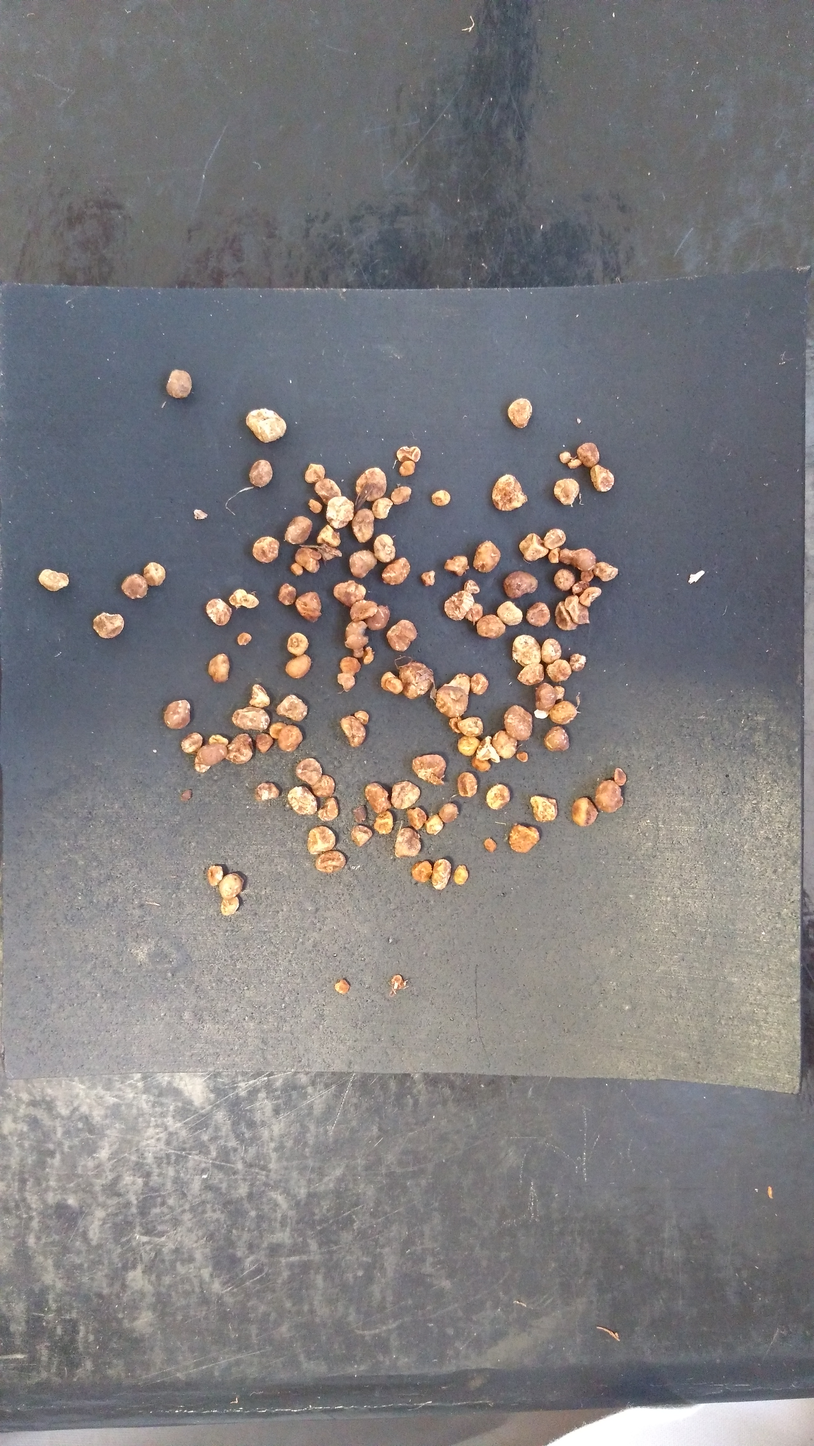nodule: (487, 471, 535, 515), (240, 406, 292, 445), (394, 658, 436, 702), (502, 388, 540, 434), (406, 749, 451, 786), (472, 532, 507, 575), (381, 617, 424, 652), (163, 366, 200, 405), (352, 464, 389, 502), (433, 684, 471, 721), (376, 553, 416, 588), (506, 821, 543, 858), (337, 712, 371, 752), (117, 570, 152, 608), (503, 567, 542, 601), (594, 775, 627, 815), (292, 752, 328, 788), (567, 794, 603, 830), (291, 588, 325, 626), (90, 609, 128, 643), (561, 591, 596, 627), (389, 778, 425, 813), (493, 593, 527, 630), (527, 788, 561, 825), (509, 632, 544, 667), (160, 695, 194, 731), (346, 548, 383, 581), (502, 703, 534, 741), (322, 494, 356, 529), (286, 782, 319, 818), (304, 822, 340, 855), (440, 588, 477, 620), (361, 780, 395, 814), (471, 610, 507, 642), (279, 511, 311, 547), (203, 594, 234, 631), (34, 565, 71, 596), (330, 579, 372, 606), (275, 691, 310, 723), (393, 825, 425, 860), (230, 702, 270, 730), (308, 474, 344, 505), (453, 765, 484, 801), (224, 732, 255, 768), (248, 453, 277, 491), (283, 651, 315, 685), (572, 439, 607, 470), (484, 780, 515, 815), (489, 727, 520, 762), (349, 504, 376, 544), (226, 586, 263, 615), (542, 724, 574, 757), (311, 848, 350, 875), (518, 529, 548, 564), (344, 617, 369, 659), (558, 546, 596, 573), (522, 597, 554, 629), (248, 536, 280, 568), (274, 723, 306, 755), (587, 464, 620, 495), (552, 476, 585, 507), (553, 600, 585, 631), (474, 734, 504, 767), (430, 854, 454, 895), (292, 543, 322, 575), (218, 869, 247, 902), (538, 635, 568, 666), (141, 557, 168, 591), (515, 660, 549, 687), (593, 556, 623, 586), (547, 698, 579, 726), (440, 669, 472, 697), (544, 657, 577, 684), (207, 650, 233, 684), (301, 456, 331, 485), (314, 793, 343, 823), (370, 532, 397, 564), (375, 670, 405, 697), (404, 801, 430, 832), (252, 778, 283, 804), (532, 682, 558, 713), (349, 598, 380, 624), (309, 774, 341, 799), (247, 680, 274, 709), (410, 856, 437, 885), (331, 972, 358, 1001), (314, 523, 344, 549), (194, 743, 229, 765), (394, 441, 424, 466), (284, 632, 314, 657), (334, 654, 368, 676), (365, 604, 392, 631), (540, 524, 566, 551), (442, 552, 469, 578), (314, 541, 343, 565), (455, 714, 484, 738), (576, 583, 603, 608), (371, 809, 398, 834), (436, 801, 464, 825), (387, 483, 414, 507), (349, 824, 376, 848), (275, 580, 298, 608), (180, 730, 203, 758), (215, 896, 245, 917), (428, 486, 454, 510), (370, 497, 395, 521), (451, 861, 474, 887), (455, 735, 481, 758), (192, 749, 214, 776), (469, 669, 491, 696), (552, 568, 576, 592), (250, 731, 275, 754), (394, 458, 420, 480), (467, 754, 493, 776), (462, 601, 485, 625), (478, 833, 502, 856), (336, 671, 359, 695), (612, 762, 631, 791), (206, 862, 228, 887), (568, 648, 589, 674), (387, 970, 410, 993), (462, 578, 486, 600), (353, 705, 375, 729), (416, 568, 441, 589), (424, 812, 444, 837), (344, 631, 369, 649), (569, 576, 590, 597), (267, 720, 288, 740), (350, 804, 370, 825), (177, 788, 201, 804), (285, 560, 305, 579), (576, 566, 598, 583), (361, 645, 378, 667), (545, 545, 562, 566), (234, 630, 253, 648), (208, 730, 228, 747), (306, 495, 323, 514), (554, 681, 567, 703), (556, 450, 576, 464), (514, 748, 530, 765), (566, 456, 583, 471), (308, 548, 325, 562)
